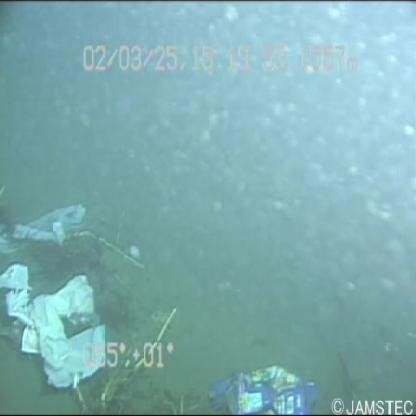Rác: (1, 213, 109, 403)
